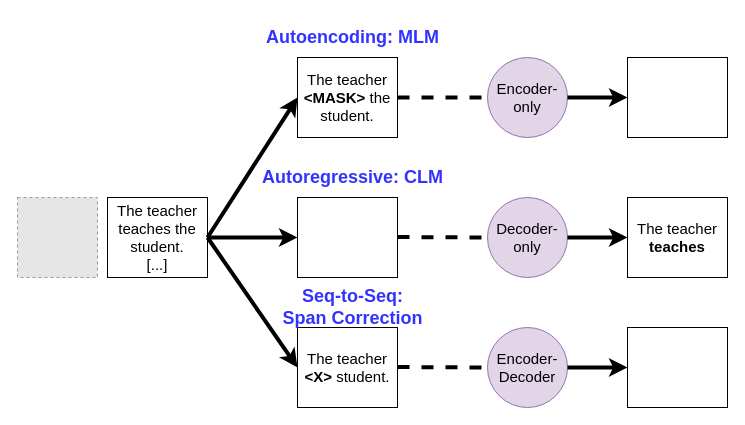
The diagram is 745 pixels wide and 425 high, and some of its shapes have lost their labels. Grey dashed boxes stand in for pictures. The shapes that lost their labels are listed below. From the top down, each one's centre as x and y in pixels, then its label:
At pixel 677 97: "The teacher teaches the student.".
At pixel 347 237: "The teacher ?".
At pixel 677 367: "<X> teaches the".
